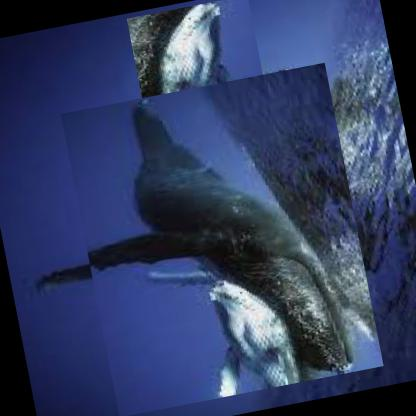blue_whale: (59, 60, 384, 415), (124, 0, 284, 206)
